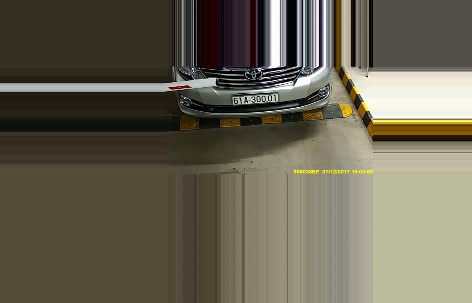plate: (230, 92, 281, 107)
